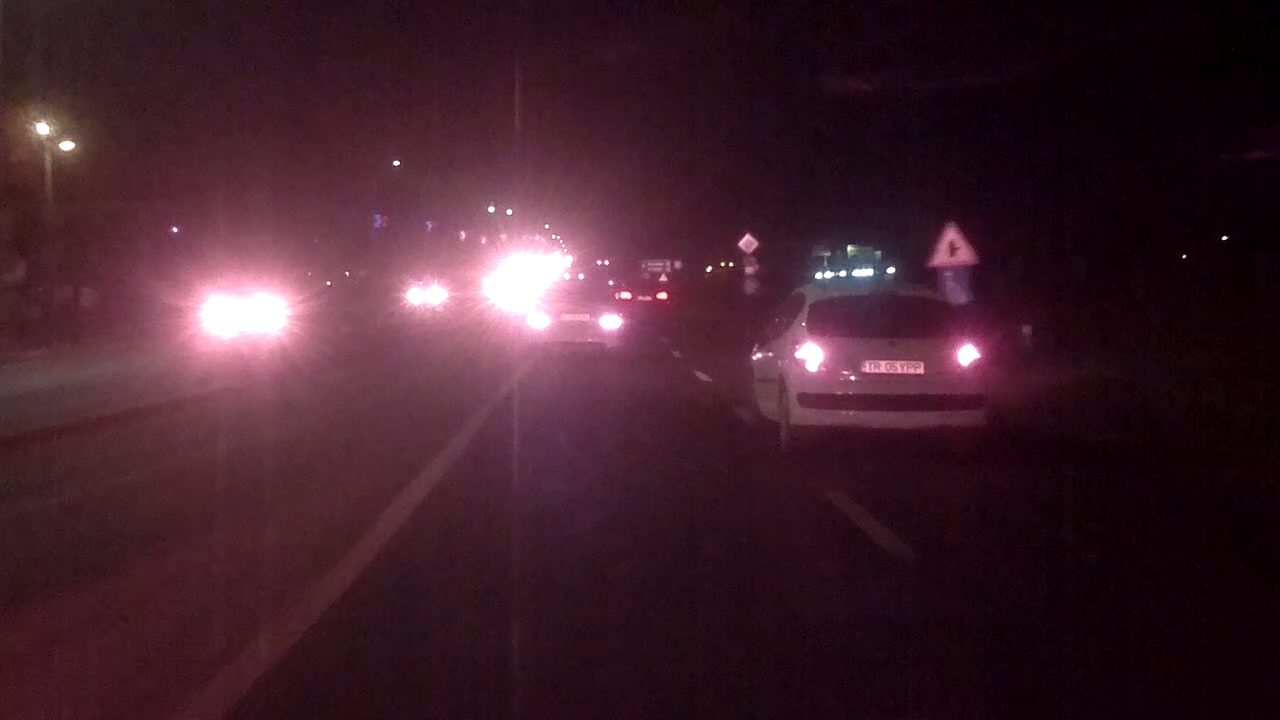license-plate: (856, 357, 929, 378)
